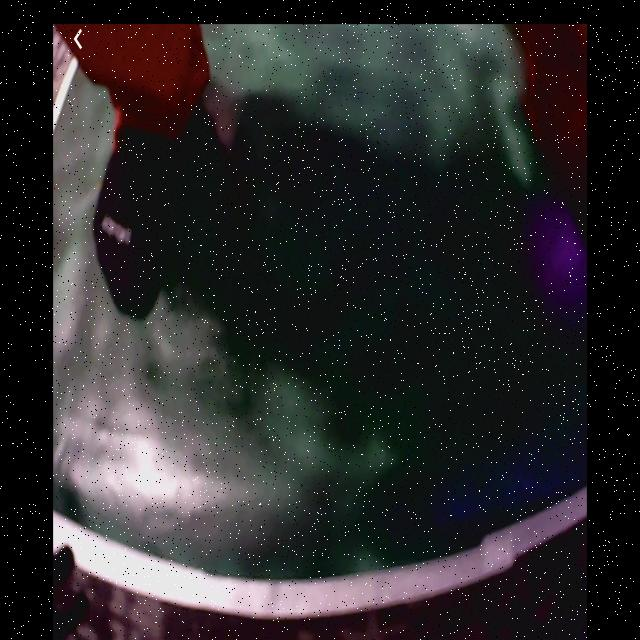ball: (537, 213, 588, 296)
